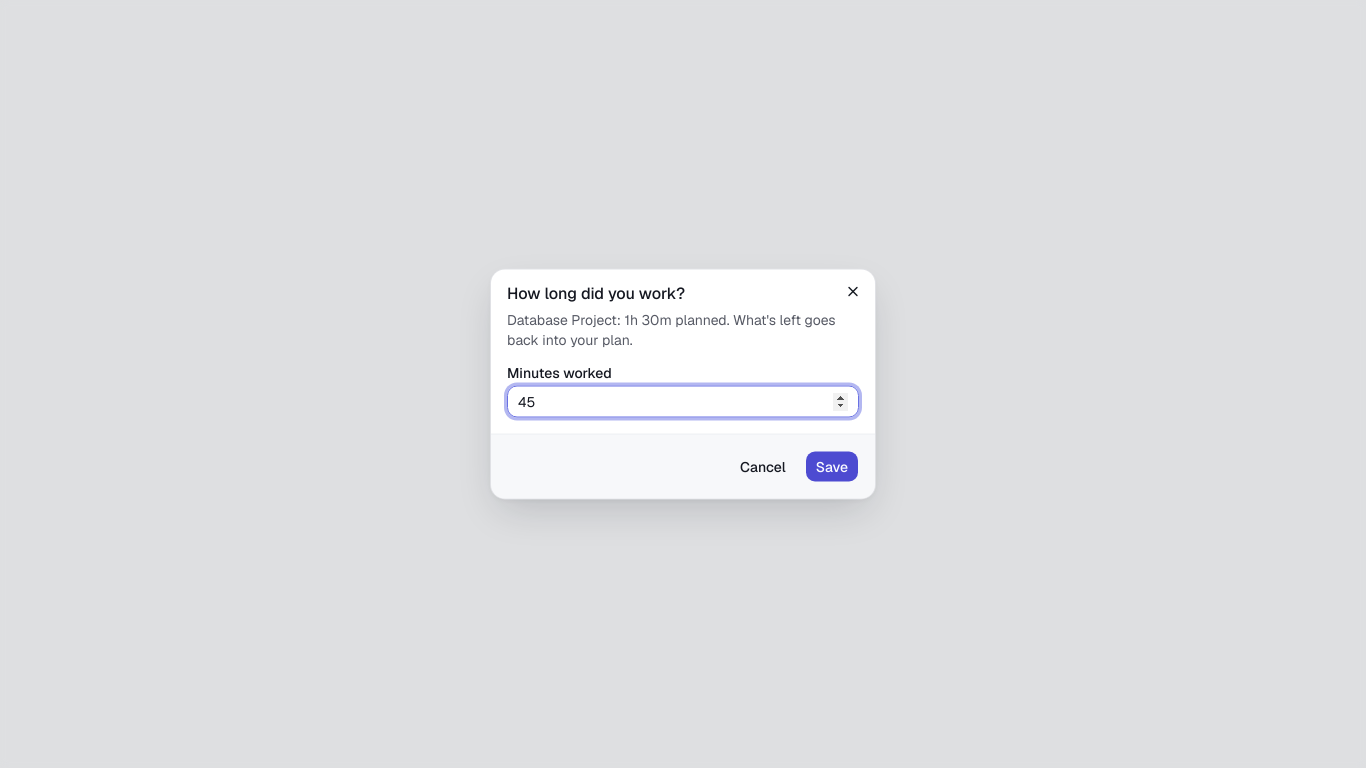
Test: study session dialogs › Partly done: refuses more than the session's length
Replace the text in the number field labelled "Minutes worked" with "200" at [683, 402], box [507,386,859,418]
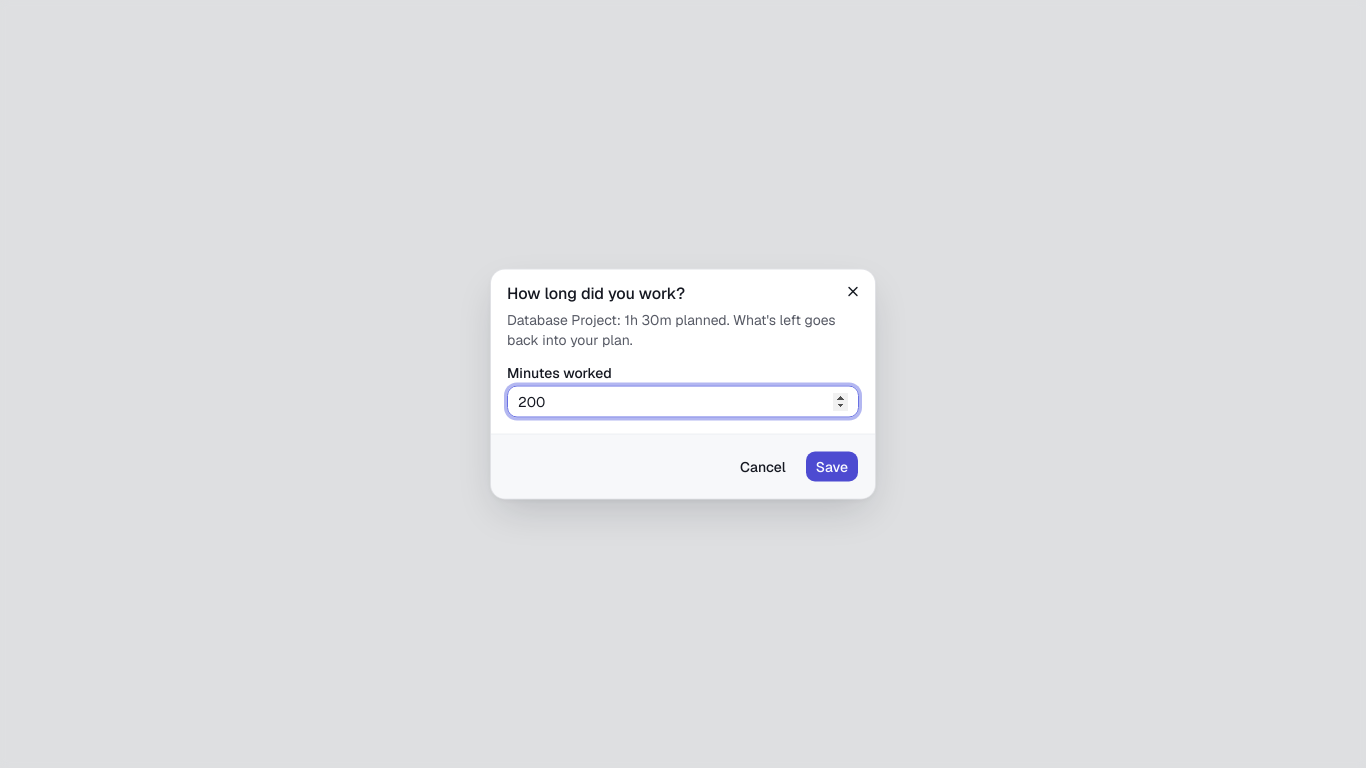
Click the button "Save" at [832, 466], box [805,450,859,482]
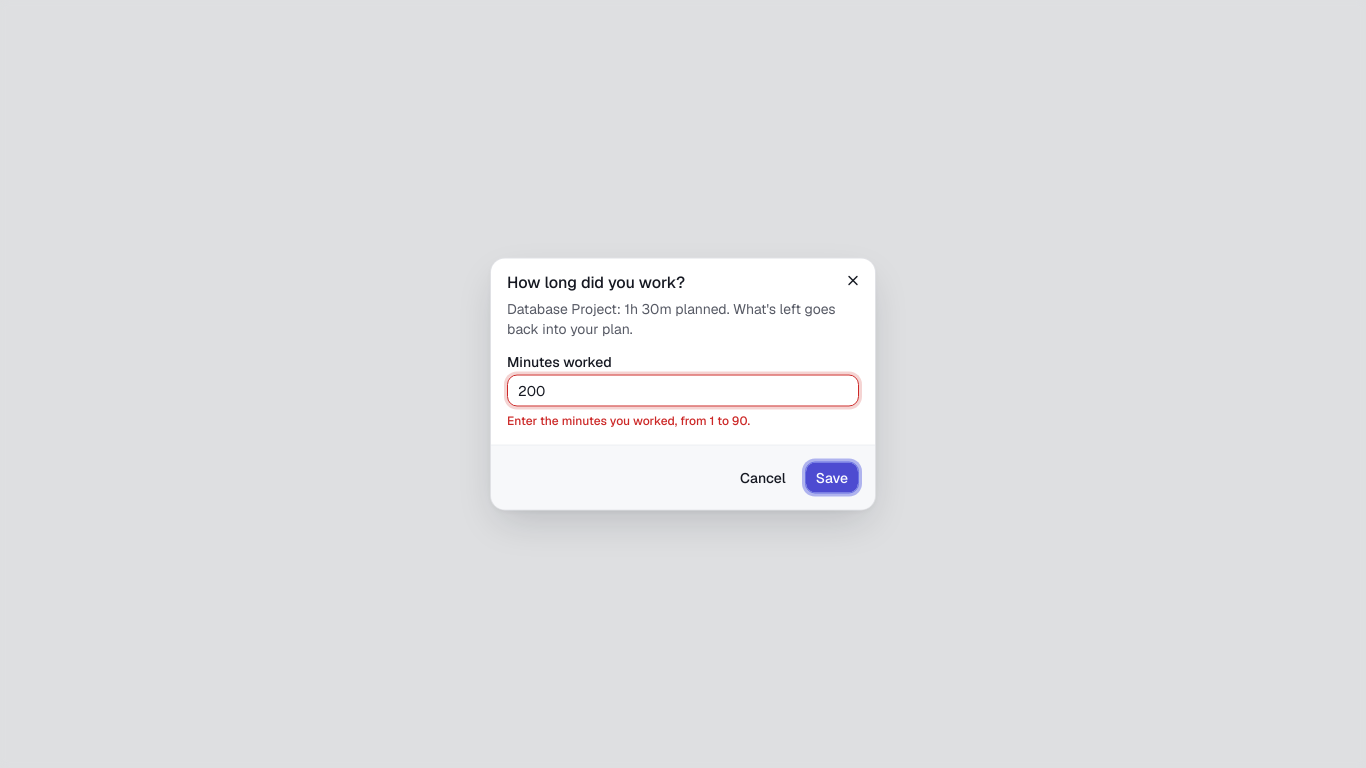
Now the text "Enter the minutes you worked, from 1 to 90." is shown, box [507,412,750,428]
